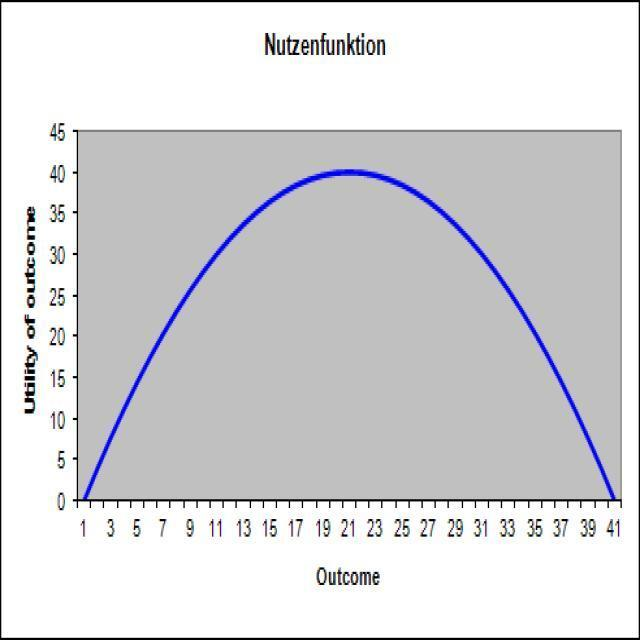axis: (71, 495, 628, 510), (69, 122, 81, 512)
line: (80, 167, 620, 502)
